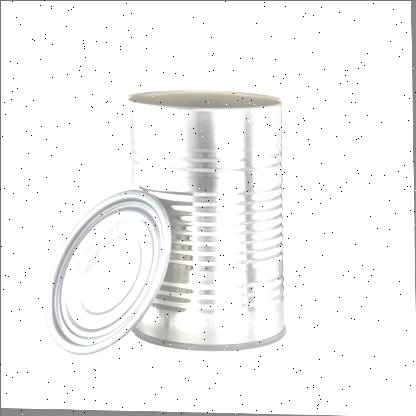Can: (122, 74, 294, 353)
